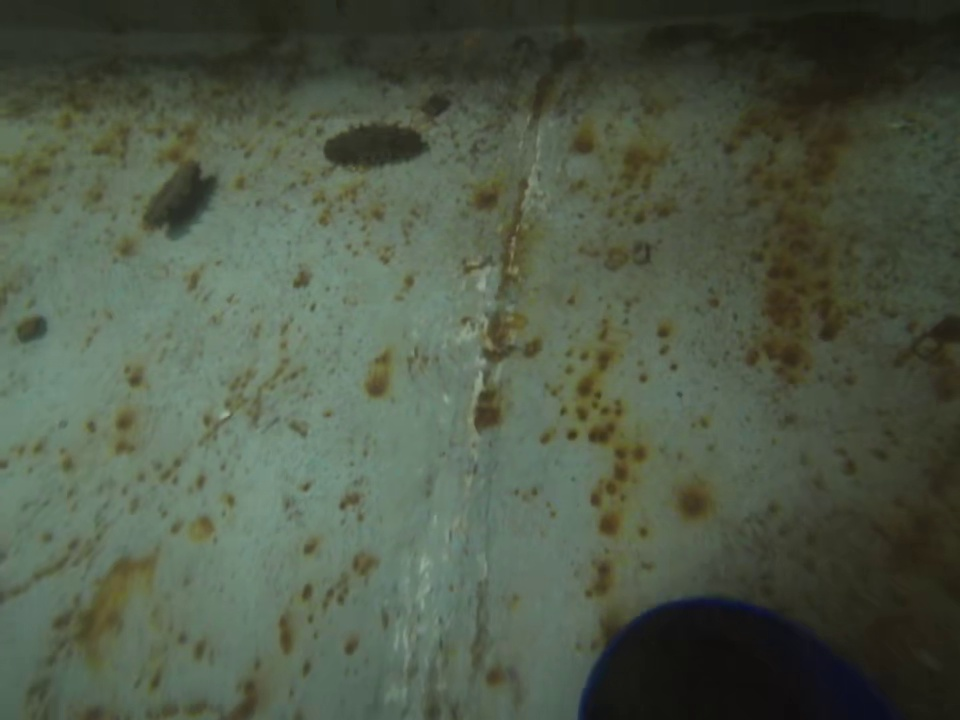seacucumber: (321, 122, 432, 165), (141, 159, 207, 230)
